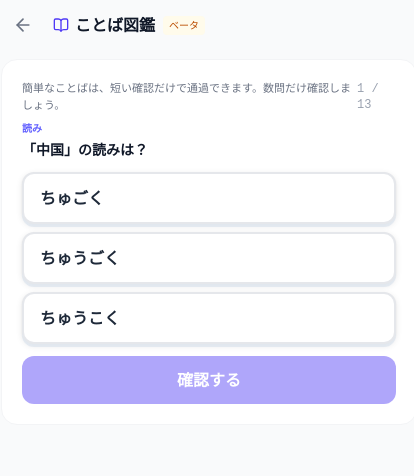
Test: 語彙ロードマップ・診断（Phase 2D §9-§10・§20-§21） › 診断: タップ回答→次元別に記録（v1ストアはv2へ移行・自己申告と混在しない）
Check: the button "確認する" is shown, box [22,356,396,404]
// 1問回答（choice→確認）
Click the button "ちゅごく" at (72, 198), box [22,172,396,224]
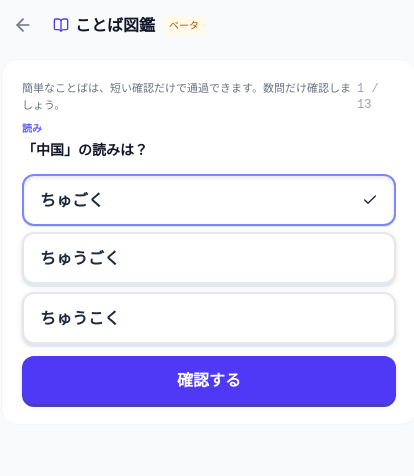
Click the button "確認する" at (209, 380), box [22,356,396,404]
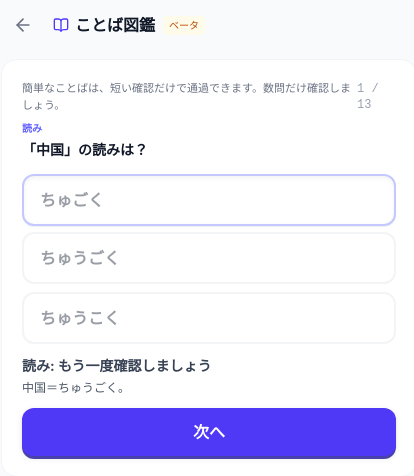
Check: the button "次へ" is shown, box [22,408,396,456]
